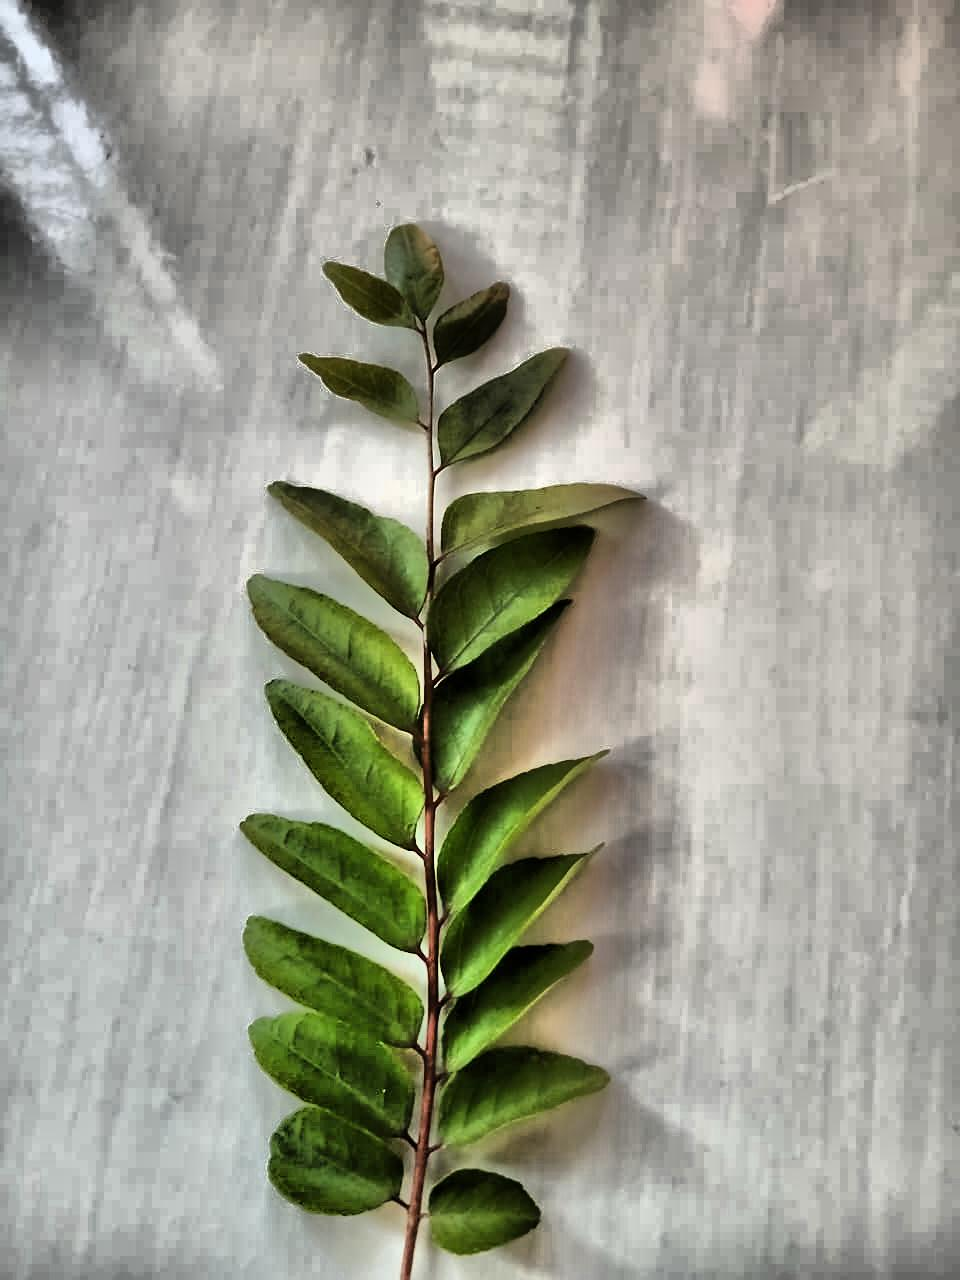daun kari: (241, 224, 608, 1279)
